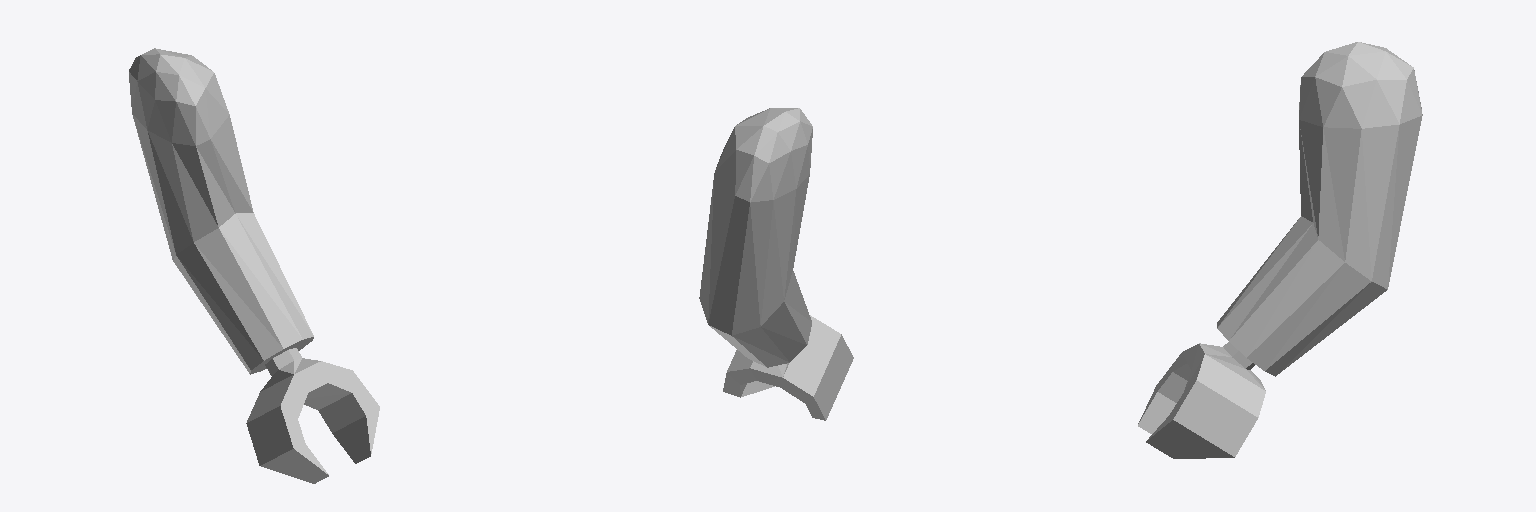
The model's file is BrazoIzquierdoLego.obj.
The picture shows the model from 3 angles: view 1: azimuth 30°, elevation 25°; view 2: azimuth 150°, elevation 25°; view 3: azimuth 270°, elevation 25°; orthographic projection.
Parts seen in each view (by area): view 1: BrazoIzquierdo; view 2: BrazoIzquierdo; view 3: BrazoIzquierdo.
Boxes of the visible parts, <box> form: BrazoIzquierdo: <box>129,48,379,483</box>; BrazoIzquierdo: <box>699,108,853,420</box>; BrazoIzquierdo: <box>1138,42,1422,458</box>.
Bounding box in the file's own units: 3.68 × 9.28 × 6.42.